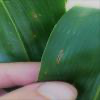Corn Gray leaf spot: (40, 2, 97, 78)
